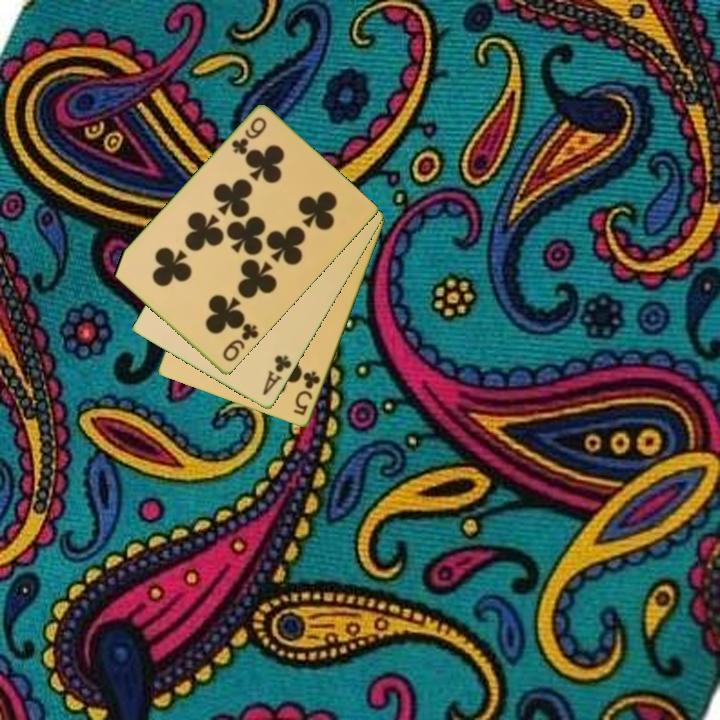5c: (290, 368, 324, 419)
9c: (219, 320, 262, 365), (228, 114, 270, 158)
Ac: (259, 352, 295, 399)
